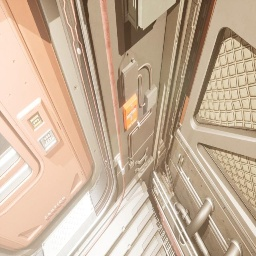FireAlarm ,: (123, 93, 137, 130)
